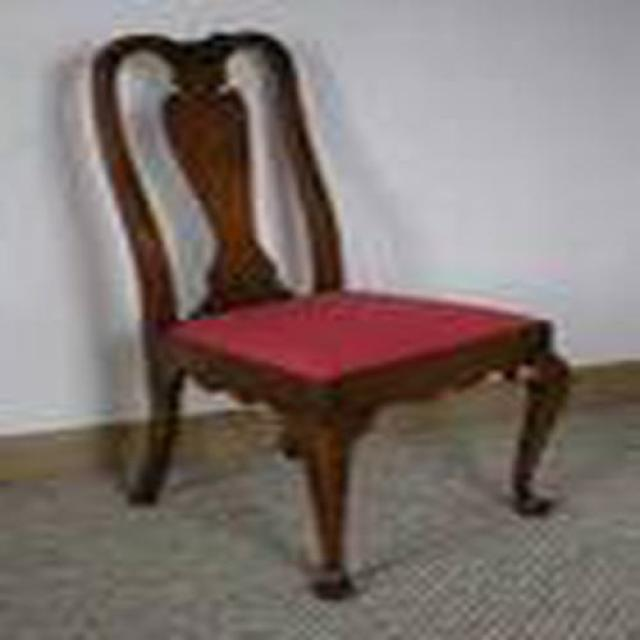chair: (91, 32, 572, 603)
